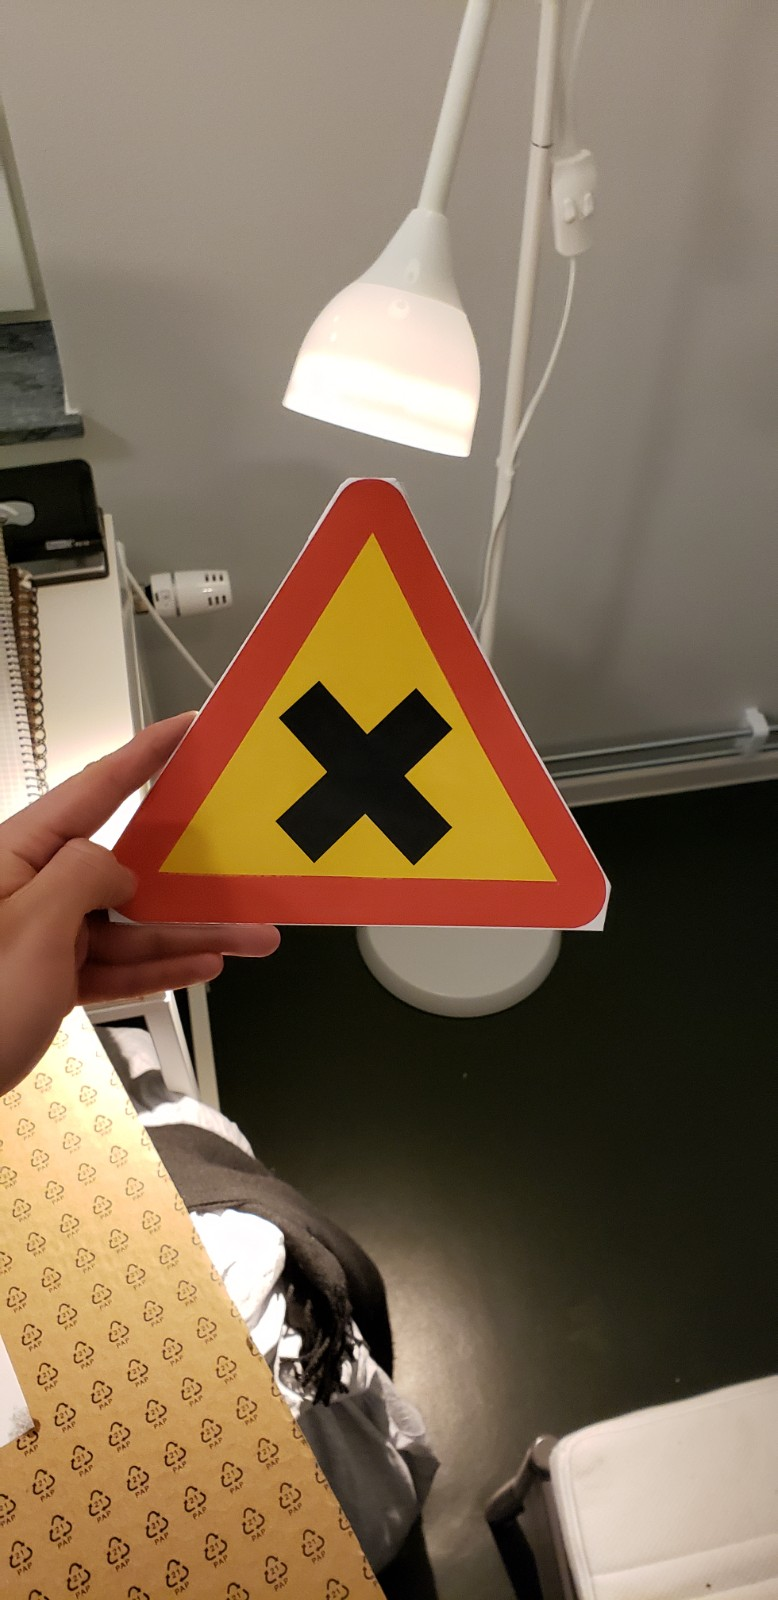junction: (81, 407, 660, 976)
